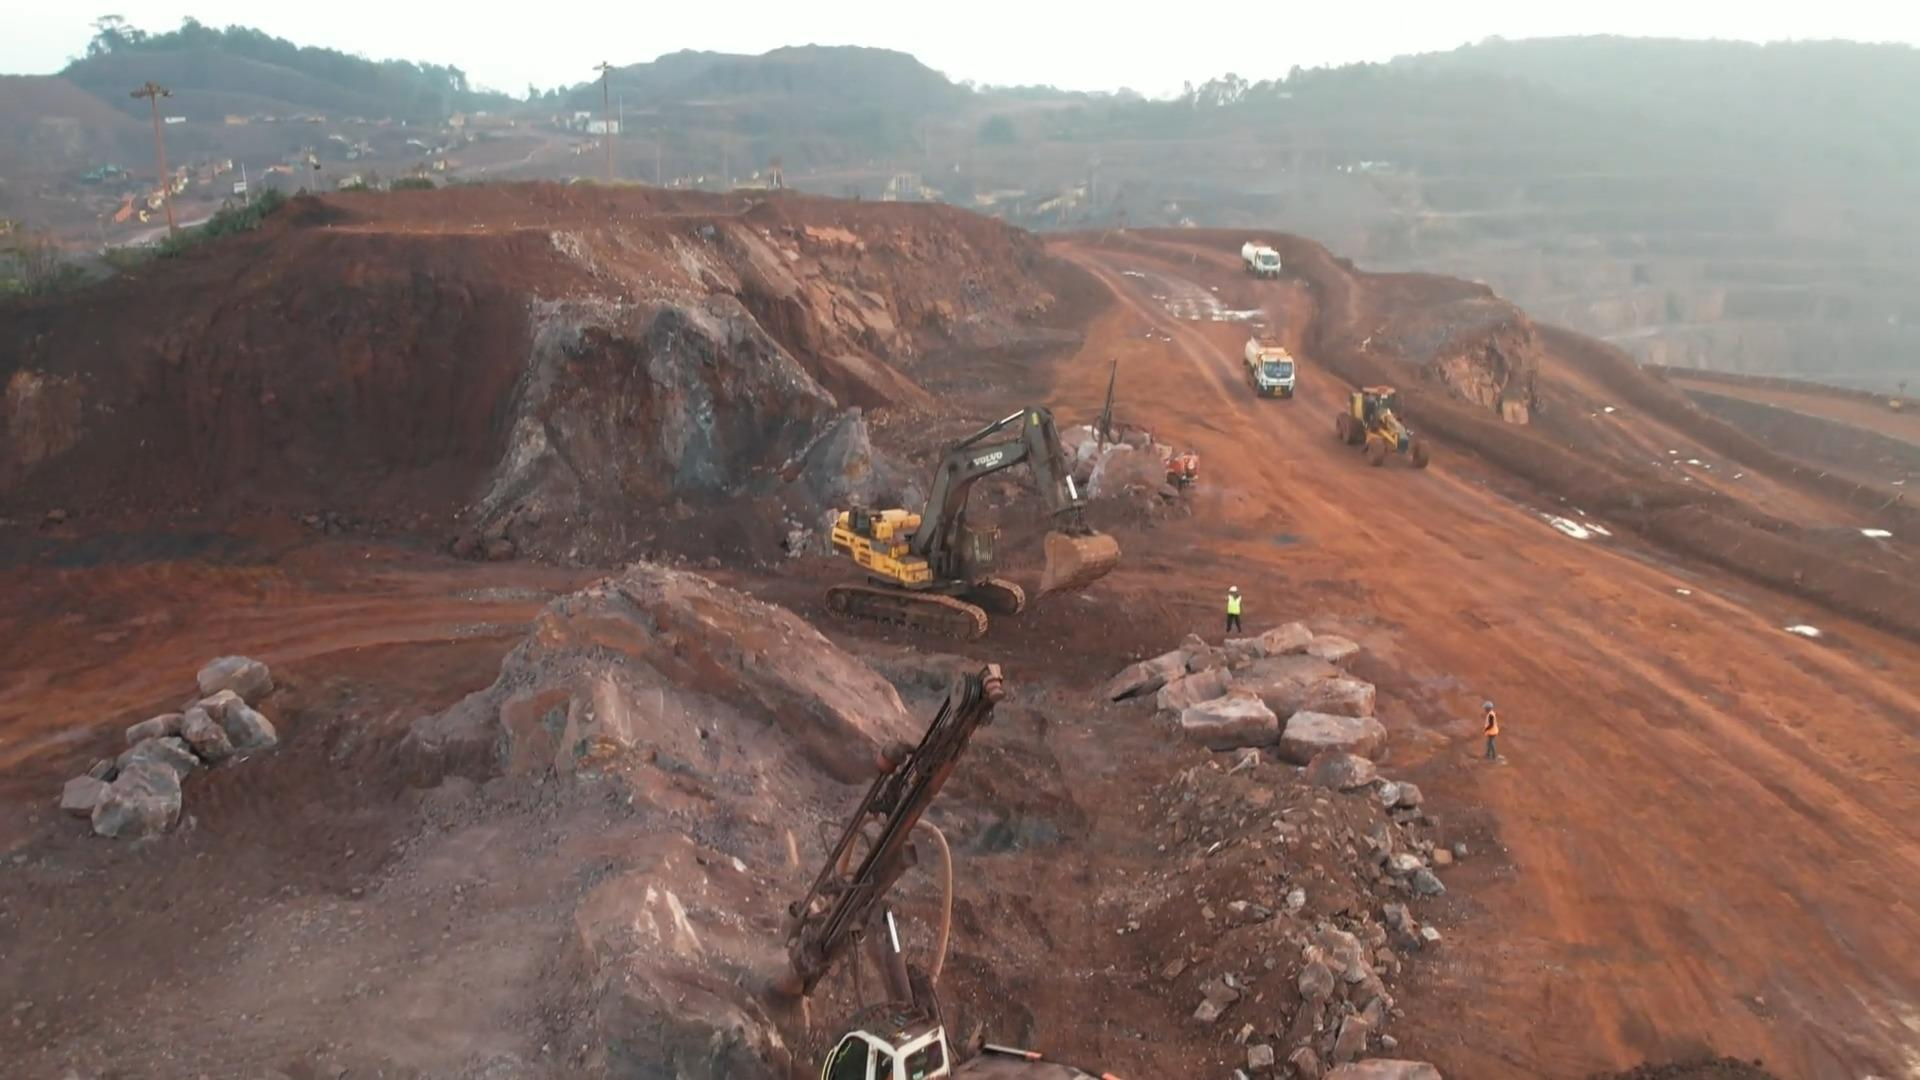excavator: (828, 404, 1098, 621)
